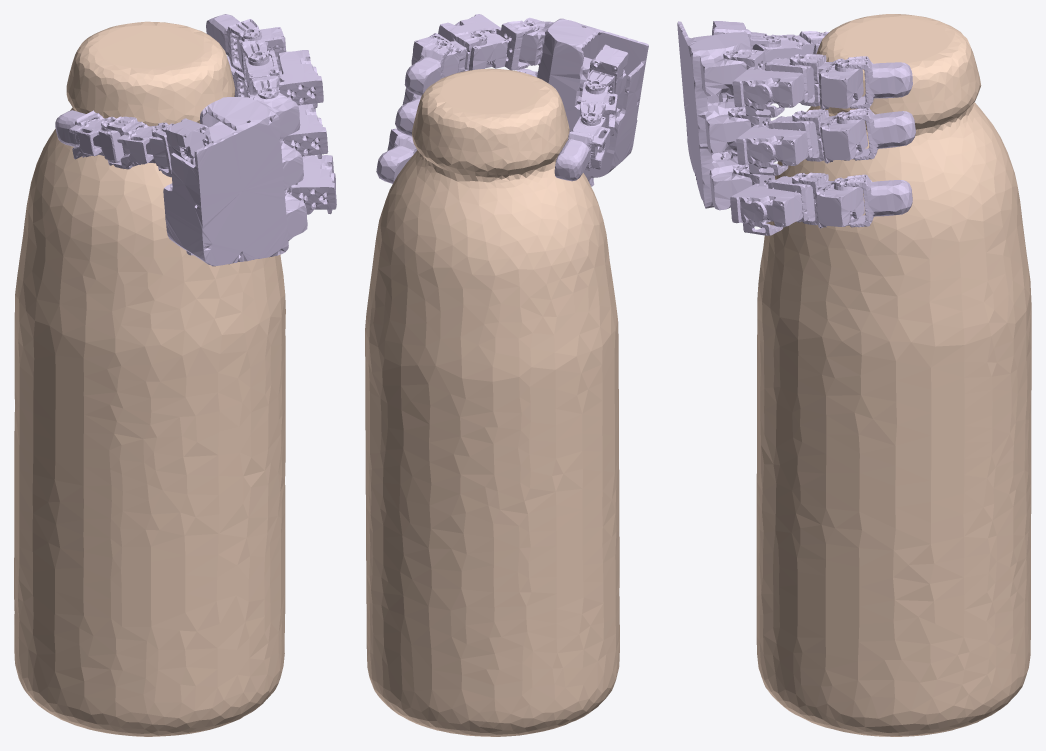
Rendered from 5b1be6724a7d94-closed.glb.
3 views of the same model, side by side, from view 1: azimuth 30°, elevation 25°; view 2: azimuth 150°, elevation 25°; view 3: azimuth 270°, elevation 25° (orthographic). The views are drawn at different scales.
Visible parts, largest first — view 1: world, LEAP_hand; view 2: world, LEAP_hand; view 3: world, LEAP_hand.
Boxes of the visible parts, x1=… form: world: x1=14, y1=21, x2=285, y2=736; LEAP_hand: x1=55, y1=14, x2=336, y2=266; world: x1=365, y1=68, x2=619, y2=736; LEAP_hand: x1=376, y1=14, x2=648, y2=186; world: x1=756, y1=14, x2=1031, y2=736; LEAP_hand: x1=677, y1=21, x2=915, y2=235.
Bounding box in the file's own units: 0.2232 × 0.5526 × 0.2644.
